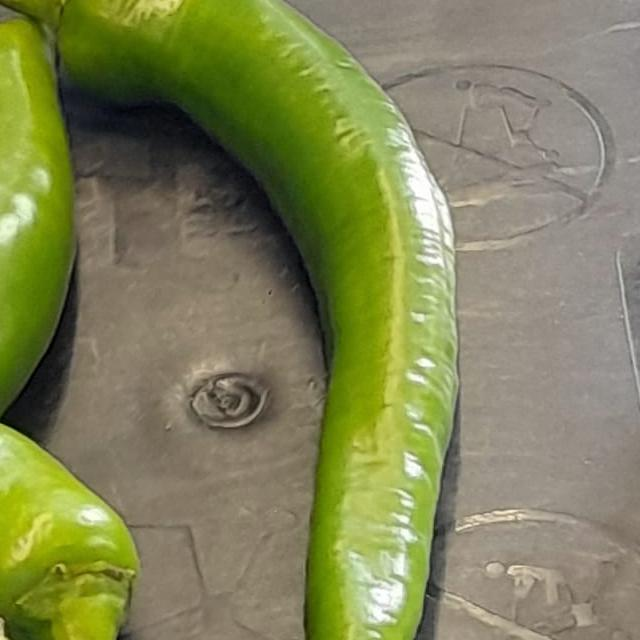chili_pepper: (6, 0, 476, 640), (0, 0, 116, 640)
